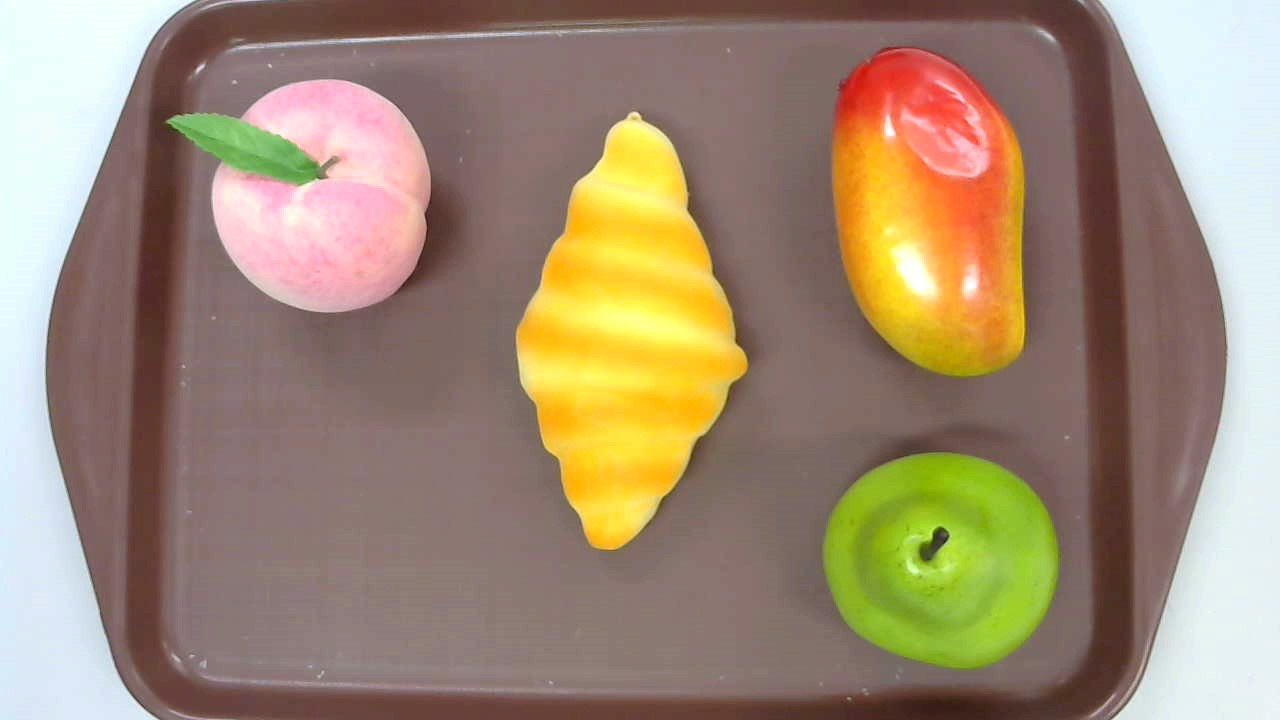croissant: (516, 111, 749, 550)
green pear: (821, 450, 1059, 667)
peach: (166, 78, 431, 312)
red mango: (830, 46, 1026, 377)
